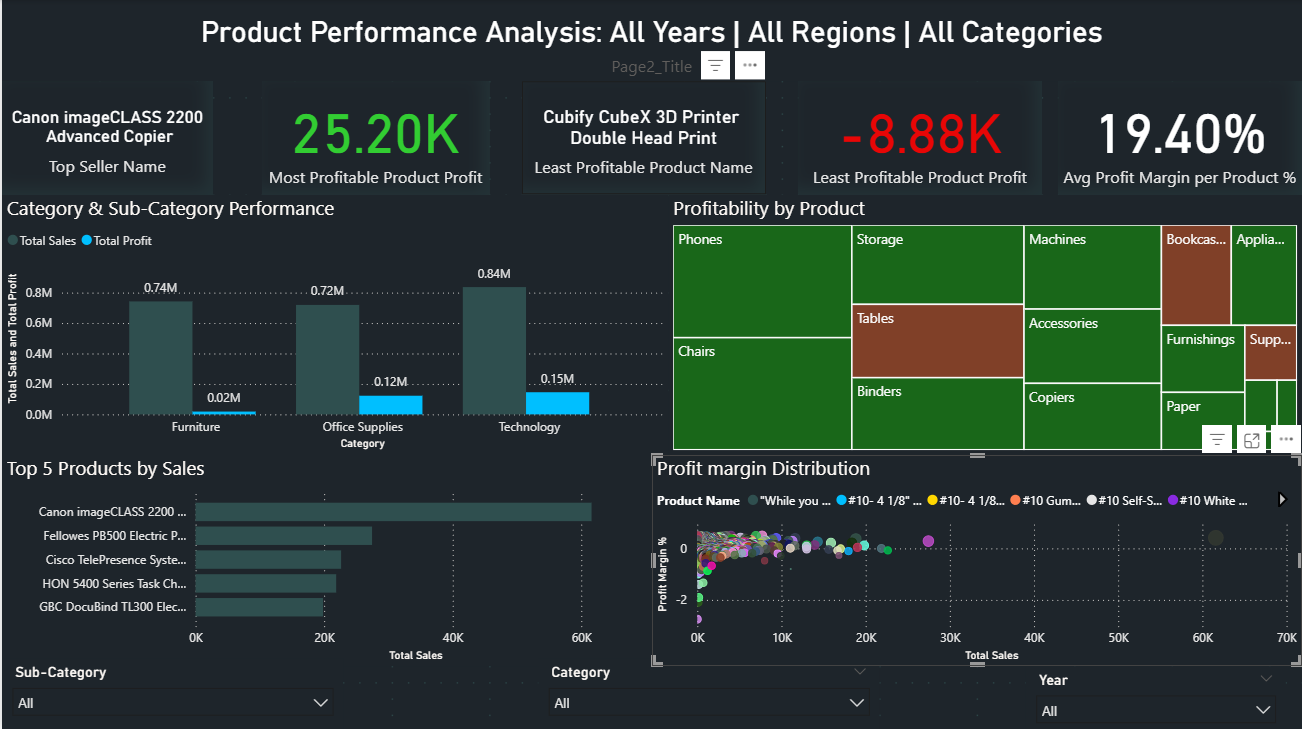

Layout of this report page (visuals, bound fields, positions):
{"tool":"powerbi","page":{"name":"Product Performance Analysis","canvas":[1280,720],"ordinal":1},"visuals":[{"type":"card","fields":{"Values":["Measures (2).Page2_Title"]},"box":[0,0,1280,80],"z":0},{"type":"card","fields":{"Values":["Measures (2).Least Profitable Product Profit"]},"box":[784,80,240,112],"z":1000},{"type":"card","fields":{"Values":["Measures (2).Most Profitable Product Profit"]},"box":[256,80,224,112],"z":2000},{"type":"card","fields":{"Values":["Measures (2).Avg Profit Margin per Product %"]},"box":[1040,80,240,112],"z":3000},{"type":"card","fields":{"Values":["Measures (2).Top Seller Name"]},"box":[0,80,208,112],"z":4000},{"type":"clusteredColumnChart","title":"Category & Sub-Category Performance","fields":{"Category":["superstore_cleaned.Category","superstore_cleaned.Sub-Category"],"Y":["Measures (2).Total Sales","Measures (2).Total Profit"]},"box":[0,192,656,256],"z":5000},{"type":"treemap","title":"Profitability by Product","fields":{"Values":["Measures (2).Total Sales"],"Group":["superstore_cleaned.Sub-Category"]},"box":[656,192,624,256],"z":6000},{"type":"barChart","title":"Top 5 Products by Sales","fields":{"Category":["superstore_cleaned.Product Name"],"Y":["Measures (2).Total Sales"]},"box":[0,448,640,208],"z":7000},{"type":"scatterChart","title":"Profit margin Distribution","fields":{"X":["Measures (2).Total Sales"],"Y":["Measures (2).Profit Margin %"],"Size":["Measures (2).Total Profit"],"Series":["superstore_cleaned.Product Name"]},"box":[640,448,640,208],"z":8000},{"type":"slicer","fields":{"Values":["superstore_cleaned.Sub-Category"]},"box":[0,648,336,72],"z":9000},{"type":"slicer","fields":{"Values":["superstore_cleaned.Category"]},"box":[528,648,336,72],"z":10000},{"type":"slicer","fields":{"Values":["Date.Year"]},"box":[1008,656,256,64],"z":11000},{"type":"card","fields":{"Values":["Measures (2).Least Profitable Product Name"]},"box":[512,80,240,112],"z":12000}]}

Visuals, with their boxes in screenshot pixels (x1, y1, x2, y2), scaled from the page's 1280x720 canvas onto the 1302x729 screenshot:
card - Measures (2).Page2_Title: box=[0, 0, 1301, 81]
card - Measures (2).Least Profitable Product Profit: box=[797, 81, 1042, 194]
card - Measures (2).Most Profitable Product Profit: box=[260, 81, 488, 194]
card - Measures (2).Avg Profit Margin per Product %: box=[1058, 81, 1301, 194]
card - Measures (2).Top Seller Name: box=[0, 81, 212, 194]
"Category & Sub-Category Performance" clusteredColumnChart: box=[0, 194, 667, 454]
"Profitability by Product" treemap: box=[667, 194, 1301, 454]
"Top 5 Products by Sales" barChart: box=[0, 454, 651, 664]
"Profit margin Distribution" scatterChart: box=[651, 454, 1301, 664]
slicer - superstore_cleaned.Sub-Category: box=[0, 656, 342, 728]
slicer - superstore_cleaned.Category: box=[537, 656, 879, 728]
slicer - Date.Year: box=[1025, 664, 1286, 728]
card - Measures (2).Least Profitable Product Name: box=[521, 81, 765, 194]
